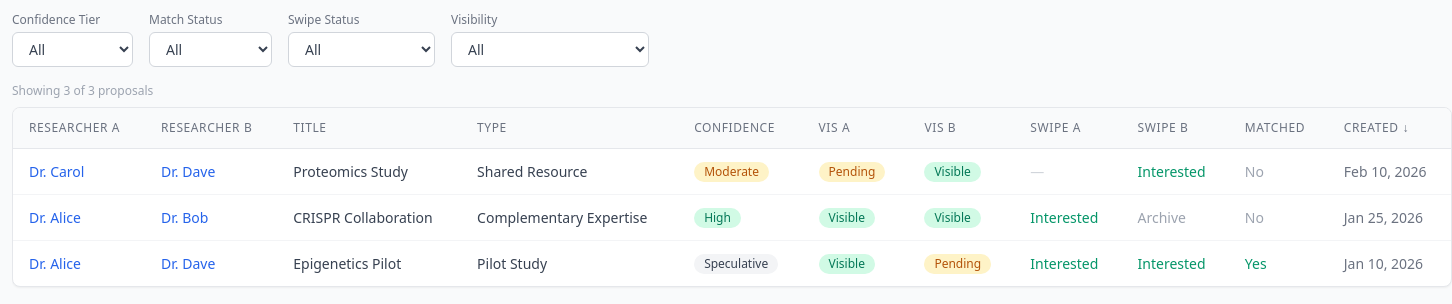
Scenario: ProposalsTable › filters by confidence tier
This screenshot has width=1452, height=304.
Step 1. Select "High" in the dropdown labelled "Confidence Tier" → coordinates (72, 50), box [12,32,133,67]
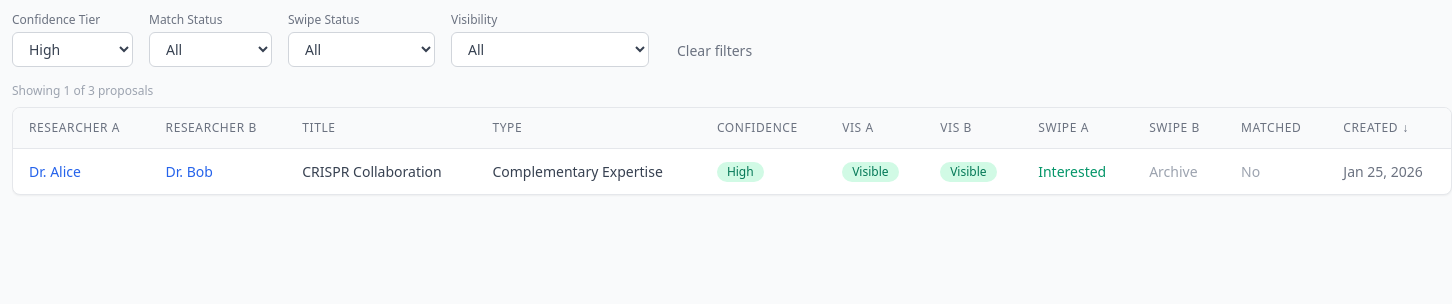
Now the text "Proteomics Study" is gone
Now the text "Epigenetics Pilot" is gone
Now the text "Showing 1 of 3 proposals" is shown, box [12,82,153,99]
